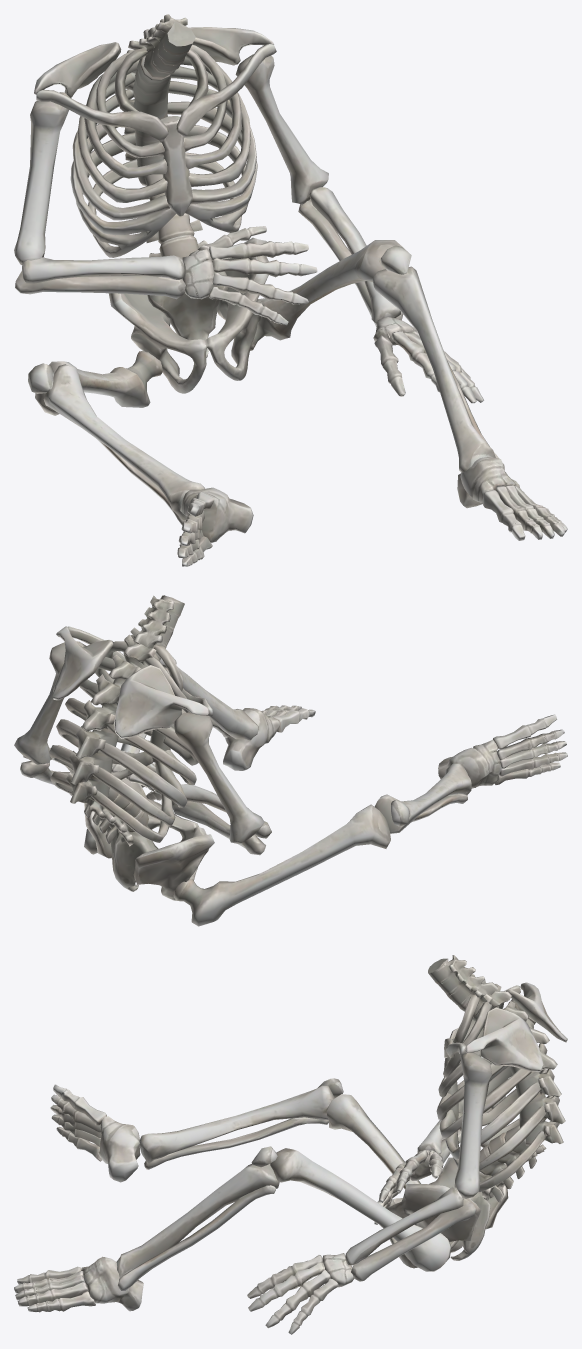
3 renders of one model, top to bottom at view 1: azimuth 30°, elevation 25°; view 2: azimuth 150°, elevation 25°; view 3: azimuth 270°, elevation 25°, orthographic. The views are drawn at different scales.
Parts seen in each view (by area): view 1: SM_Skeleton_Sitting_Quest_Headless_02_LOD0; view 2: SM_Skeleton_Sitting_Quest_Headless_02_LOD0; view 3: SM_Skeleton_Sitting_Quest_Headless_02_LOD0.
Boxes of the visible parts, x1,y1,x2,y2 form: SM_Skeleton_Sitting_Quest_Headless_02_LOD0: (14,14,567,566); SM_Skeleton_Sitting_Quest_Headless_02_LOD0: (14,595,567,926); SM_Skeleton_Sitting_Quest_Headless_02_LOD0: (14,955,567,1334).
Size of the model in its own units: 0.9109 by 0.7398 by 1.19.
1 material, 1 textured.
